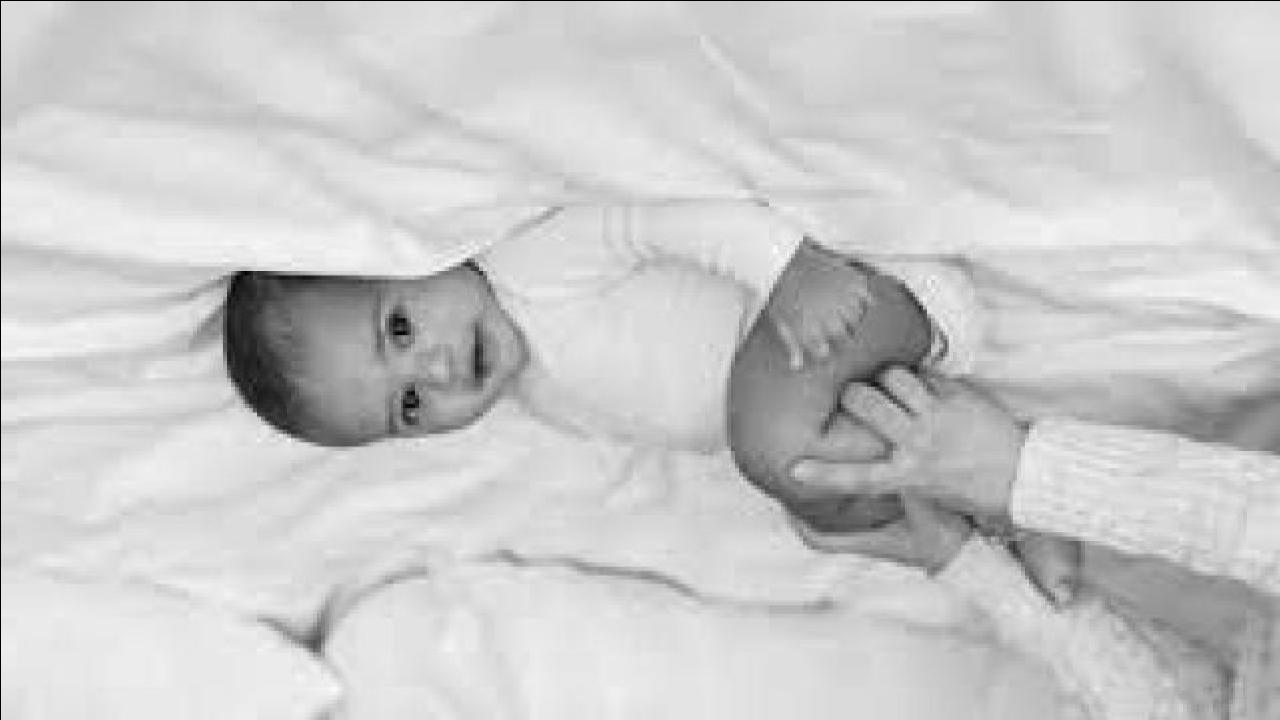hand: (760, 241, 866, 369)
